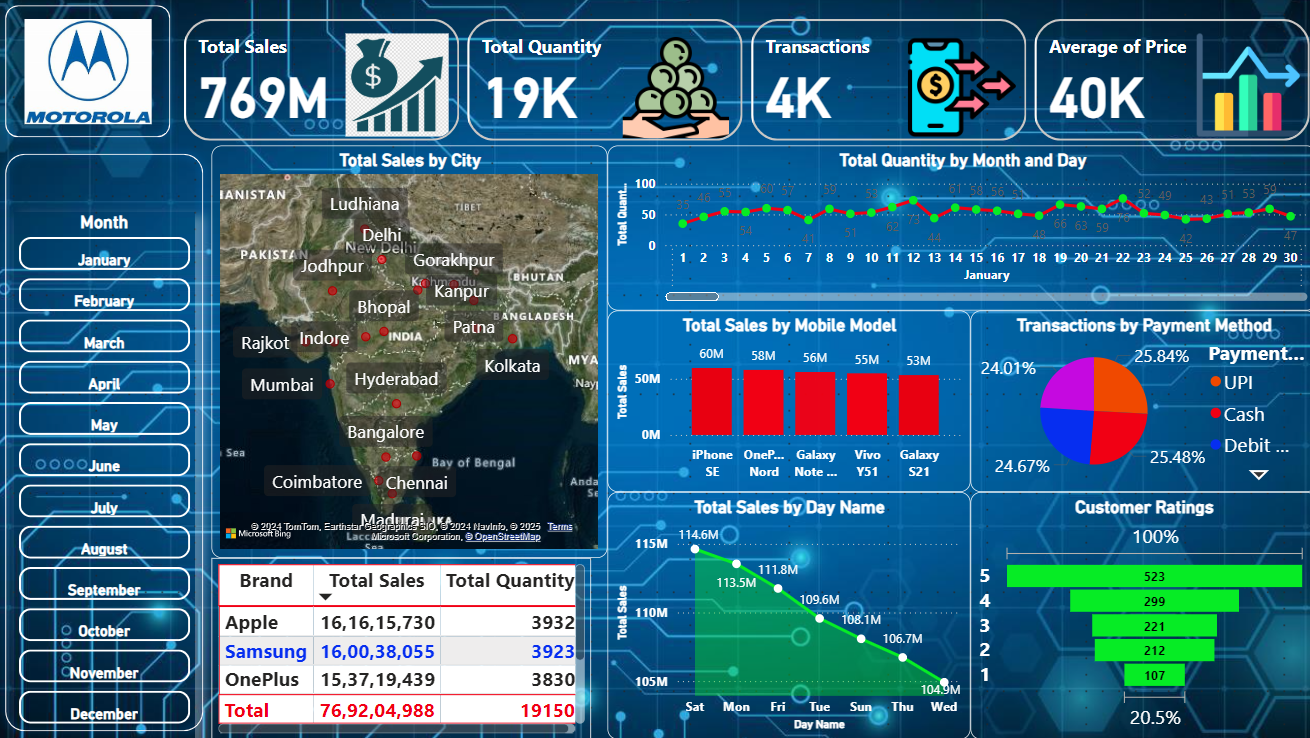

Layout of this report page (visuals, bound fields, positions):
{"tool":"powerbi","page":{"name":"Page 1","canvas":[1280,720],"ordinal":0},"visuals":[{"type":"shape","box":[0,0,176,144],"z":0},{"type":"shape","box":[0,144,208,576],"z":1000},{"type":"image","box":[16,16,144,112],"z":2000},{"type":"advancedSlicerVisual","fields":{"Values":["Data Sales.Date.Variation.Date Hierarchy.Month"]},"box":[16,208,176,512],"z":3000},{"type":"cardVisual","fields":{"Data":["Data Sales.Total Sales","Data Sales.Total Quantity","Data Sales.Transactions","Avg(Data Sales.Price Per Unit)"]},"box":[176,16,1104,128],"z":4000},{"type":"map","title":"Total Sales by City","fields":{"Category":["Data Sales.City"]},"box":[208,144,384,400],"z":5000},{"type":"lineChart","fields":{"Category":["Data Sales.Date.Variation.Date Hierarchy.Month","Data Sales.Date.Variation.Date Hierarchy.Day"],"Y":["Data Sales.Total Quantity"]},"box":[592,144,688,160],"z":6000},{"type":"clusteredColumnChart","fields":{"Y":["Data Sales.Total Sales"],"Category":["Data Sales.Mobile Model"]},"box":[592,304,352,176],"z":7000},{"type":"pieChart","fields":{"Y":["Data Sales.Transactions"],"Category":["Data Sales.Payment Method"]},"box":[944,304,336,176],"z":8000},{"type":"funnel","title":"Customer Ratings","fields":{"Category":["Data Sales.Customer Ratings"],"Y":["CountNonNull(Data Sales.Customer Ratings)"]},"box":[944,480,336,240],"z":9000},{"type":"areaChart","fields":{"Category":["Data Sales.Day Name"],"Y":["Data Sales.Total Sales"]},"box":[592,480,352,240],"z":10000},{"type":"tableEx","fields":{"Values":["Data Sales.Brand","Data Sales.Total Sales","Data Sales.Total Quantity"]},"box":[208,544,368,176],"z":11000}]}

Visuals, with their boxes in screenshot pixels (x1, y1, x2, y2), scaled from the page's 1280x720 canvas onto the 1310x738 screenshot:
shape: (0, 0, 180, 148)
shape: (0, 148, 213, 737)
image: (16, 16, 164, 131)
advancedSlicerVisual - Data Sales.Date.Variation.Date Hierarchy.Month: (16, 213, 196, 737)
cardVisual - Data Sales.Total Sales x Data Sales.Total Quantity: (180, 16, 1309, 148)
"Total Sales by City" map: (213, 148, 606, 558)
lineChart - Data Sales.Date.Variation.Date Hierarchy.Month x Data Sales.Date.Variation.Date Hierarchy.Day: (606, 148, 1309, 312)
clusteredColumnChart - Data Sales.Total Sales x Data Sales.Mobile Model: (606, 312, 966, 492)
pieChart - Data Sales.Transactions x Data Sales.Payment Method: (966, 312, 1309, 492)
"Customer Ratings" funnel: (966, 492, 1309, 737)
areaChart - Data Sales.Day Name x Data Sales.Total Sales: (606, 492, 966, 737)
tableEx - Data Sales.Brand x Data Sales.Total Sales: (213, 558, 590, 737)
